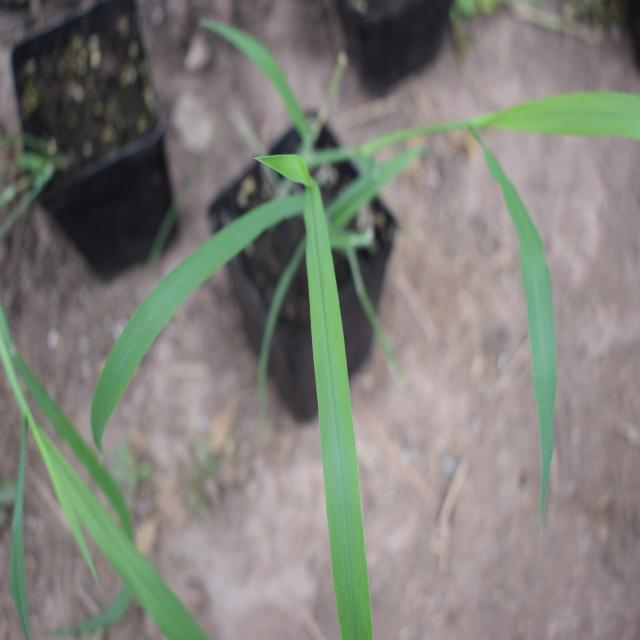crabgrass: (86, 152, 405, 601)
